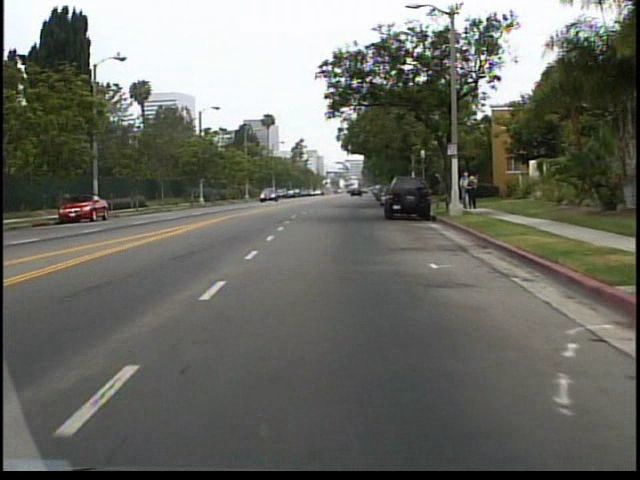person: (466, 172, 481, 210), (459, 169, 468, 211)
